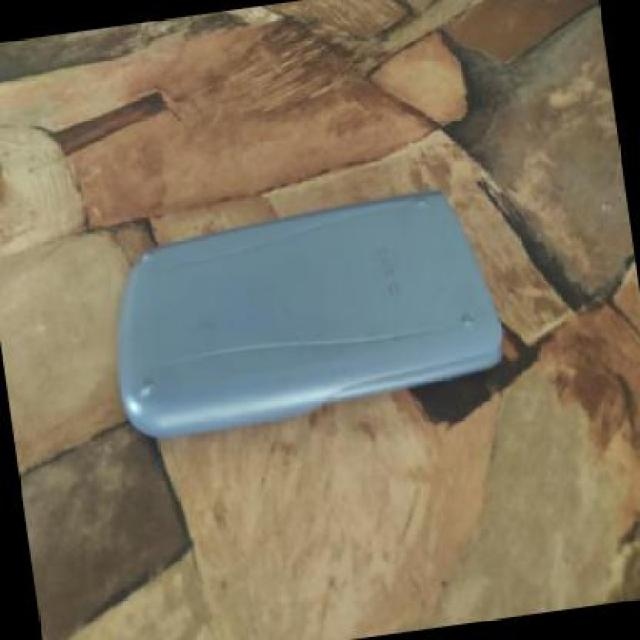Calculator: (90, 178, 518, 444)
